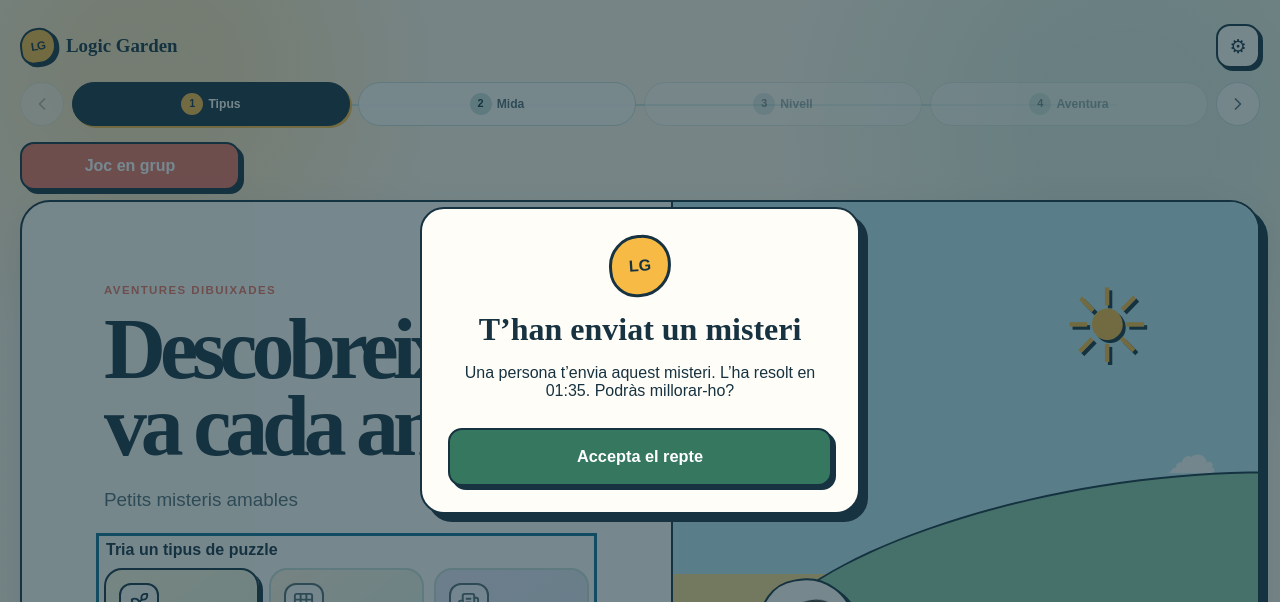
Test case: game interface › opens a timed shared mystery with a clear challenge dialog
Expected: the dialog "T’han enviat un misteri" shows "01:35", top-left (465, 364), bottom-right (815, 398)
Click the button "Accepta el repte".
click(640, 456)  # box top-left (448, 428), bottom-right (832, 486)
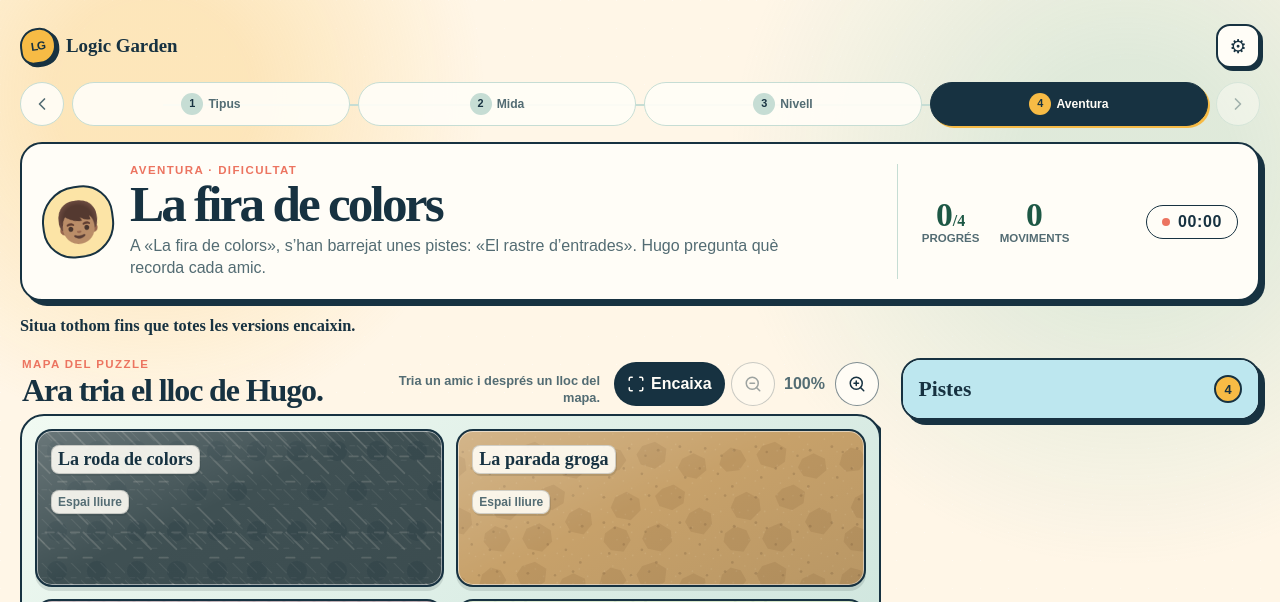
Now the dialog is gone
Now the element named "Temps" reads "00:00", box top-left (1178, 213), bottom-right (1222, 230)
